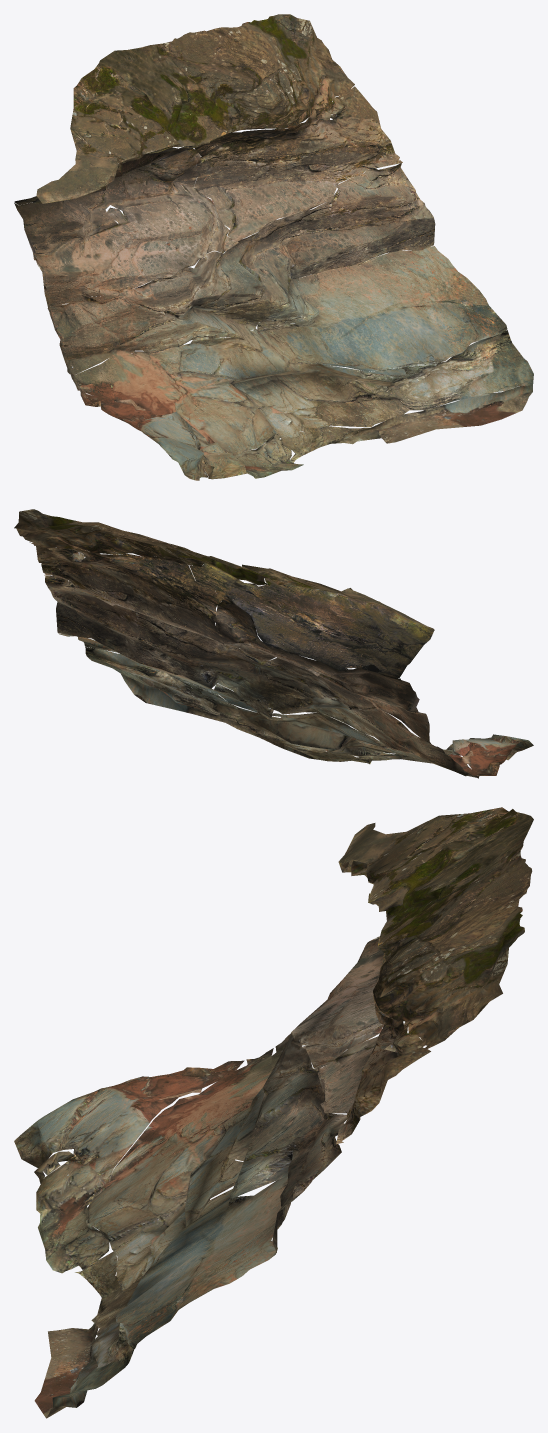
The model's file is rock_face_01_LOD2.fbx.
3 renders of one model, top to bottom at view 1: azimuth 30°, elevation 25°; view 2: azimuth 150°, elevation 25°; view 3: azimuth 270°, elevation 25°, orthographic. The views are drawn at different scales.
Parts seen in each view (by area): view 1: rock_face_01.001; view 2: rock_face_01.001; view 3: rock_face_01.001.
Boxes of the visible parts, x1,y1,x2,y2 form: rock_face_01.001: [14, 14, 533, 480]; rock_face_01.001: [14, 509, 533, 778]; rock_face_01.001: [14, 807, 533, 1418].
Bounding box in the file's own units: 4.96 × 3.83 × 3.58.
